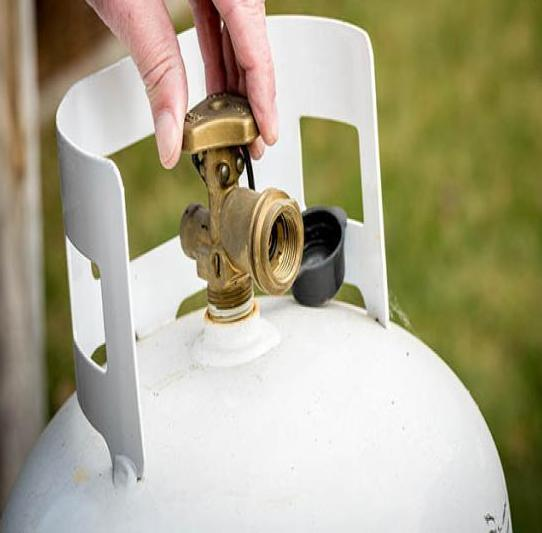cylinder: (1, 0, 542, 533)
